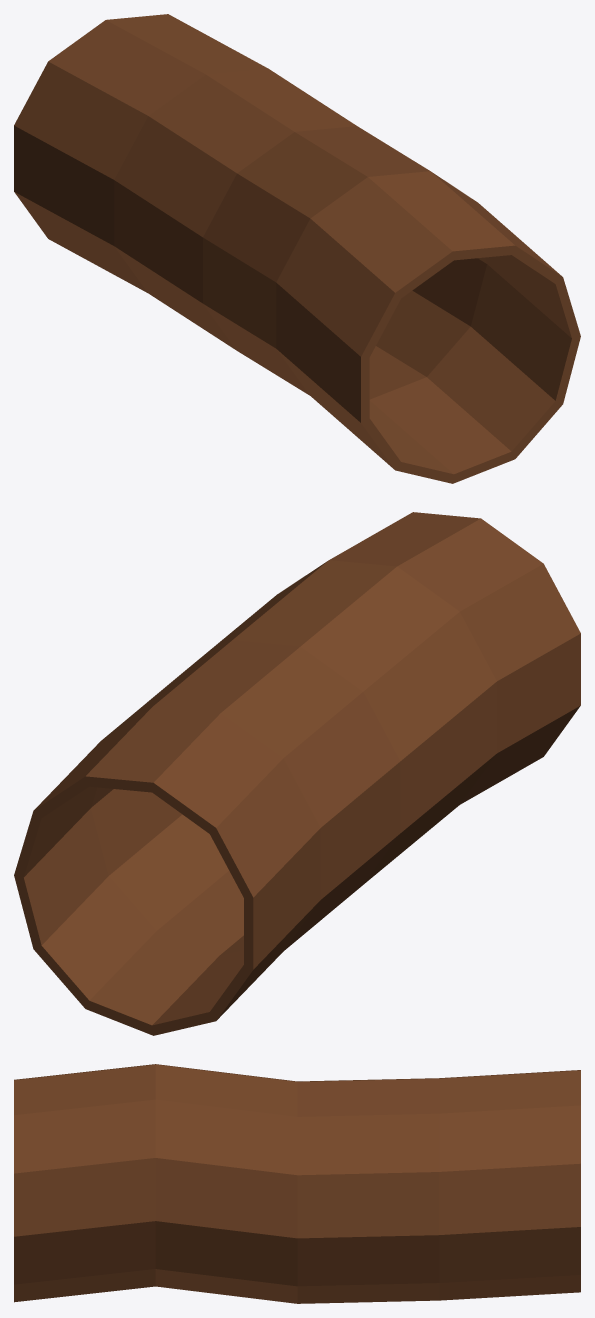
File: TreeTrunk.fbx
3 views of the same model, one above another, from view 1: azimuth 30°, elevation 25°; view 2: azimuth 150°, elevation 25°; view 3: azimuth 270°, elevation 25° (orthographic). The views are drawn at different scales.
Visible parts, largest first — view 1: TreeTrunk; view 2: TreeTrunk; view 3: TreeTrunk.
Boxes of the visible parts, left/top/right/bottom form: TreeTrunk: left=14, top=14, right=580, bottom=483; TreeTrunk: left=14, top=512, right=580, bottom=1035; TreeTrunk: left=14, top=1064, right=580, bottom=1303.
Bounding box in the file's own units: 82.49 × 79.37 × 188.
